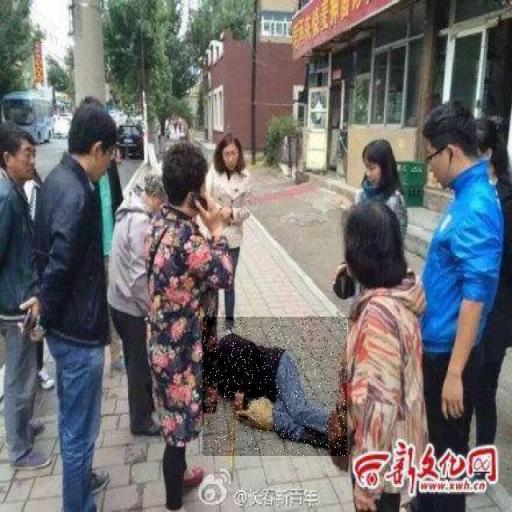Fall: (203, 317, 348, 456)
